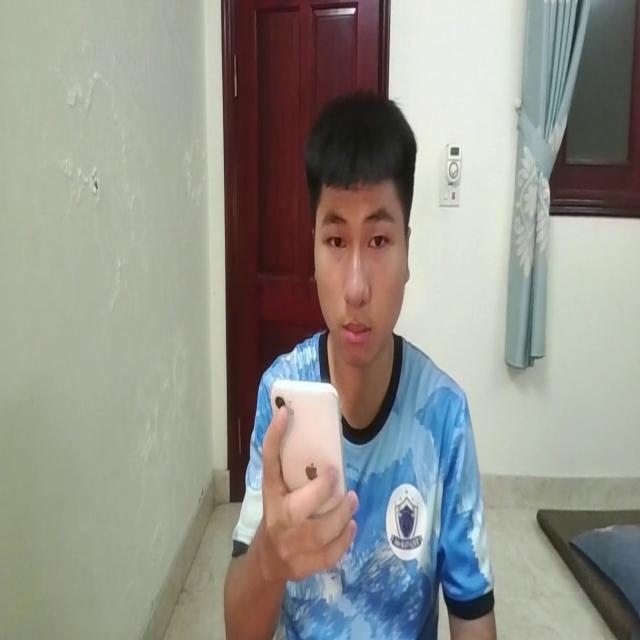phone: (268, 368, 348, 536)
student: (223, 82, 495, 640)
